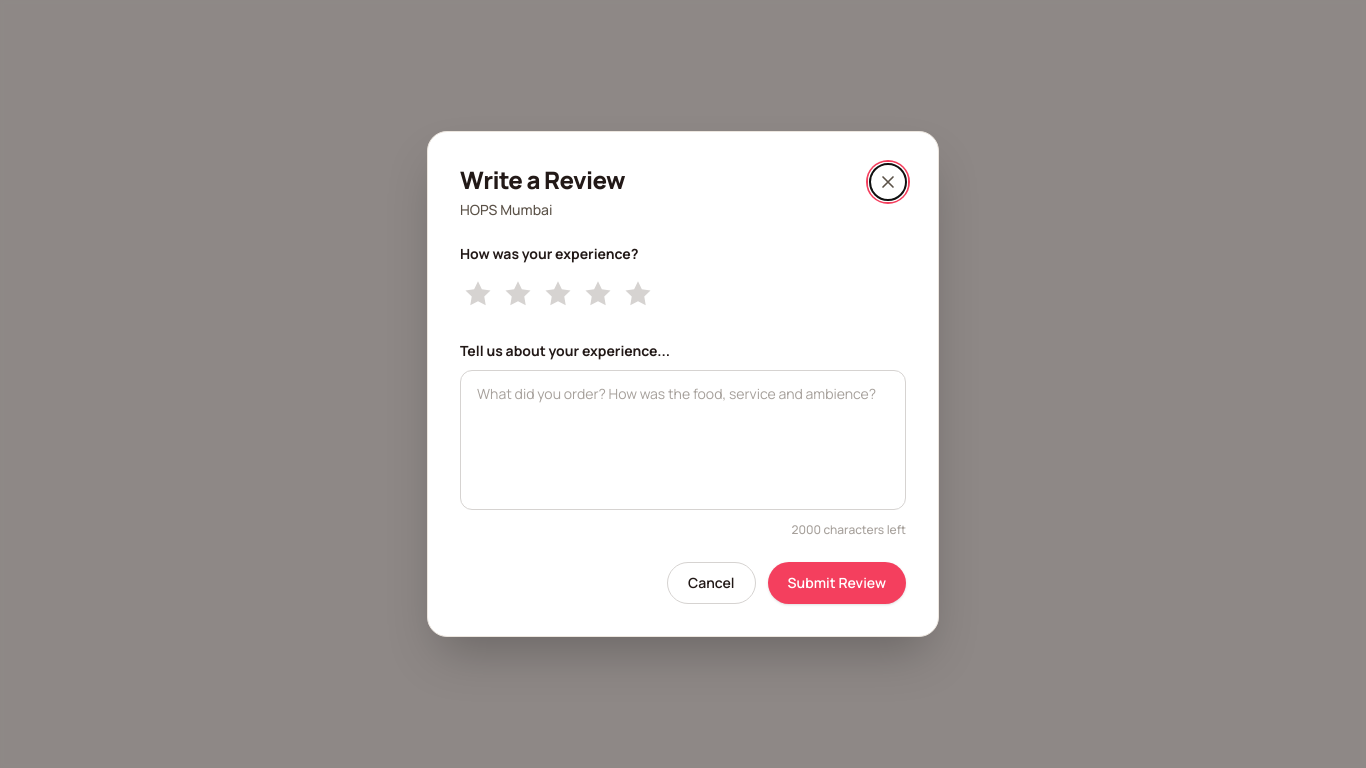
it: WriteReviewModal validation › requires a rating before submitting
Click the button "Submit Review" at [837, 583], box [768,562,906,604]
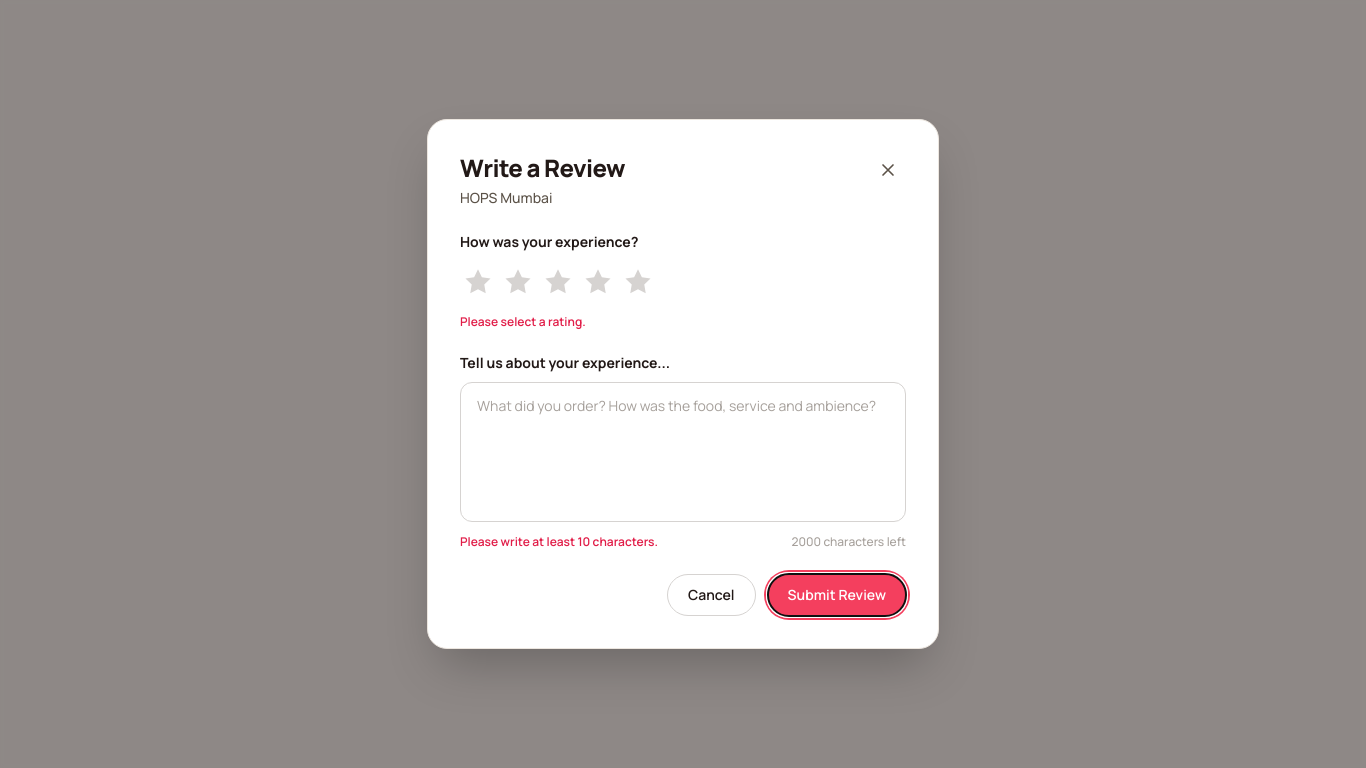
expect the text "Please select a rating." is shown: met, box [460,313,586,330]
